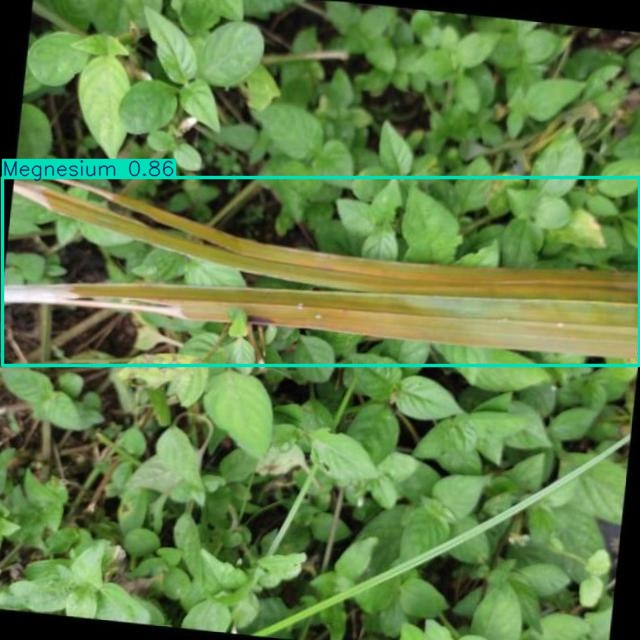Megnesium: (2, 177, 639, 366)
